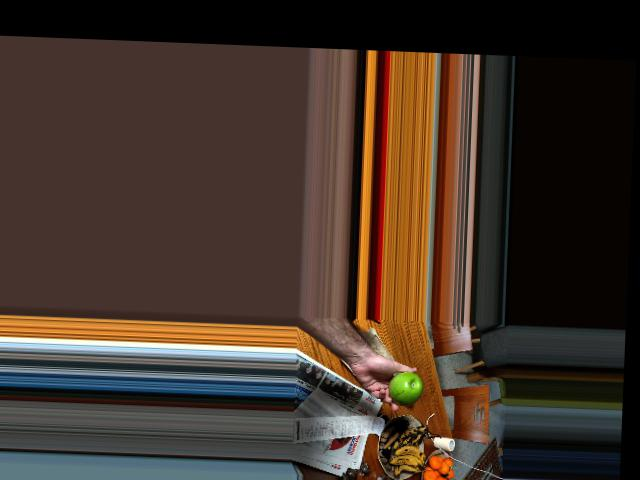apple: (385, 366, 426, 407)
